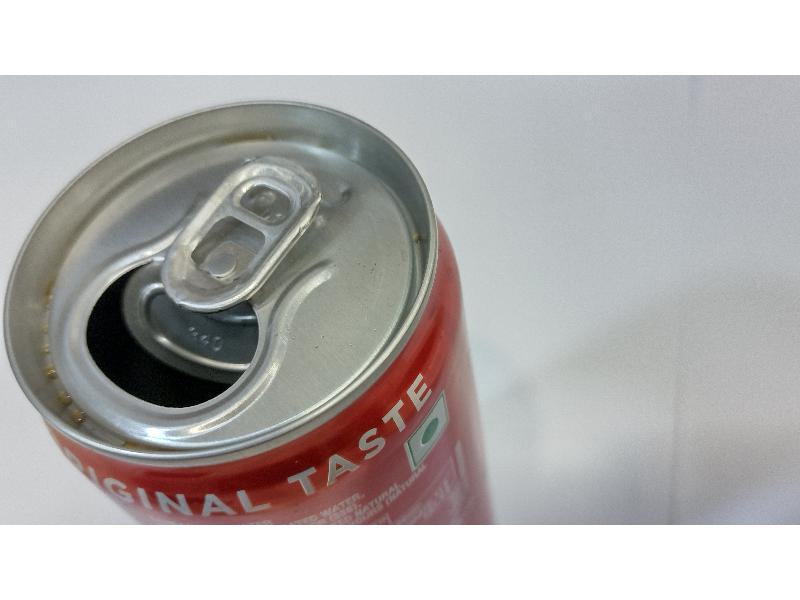can: (3, 95, 513, 523)
